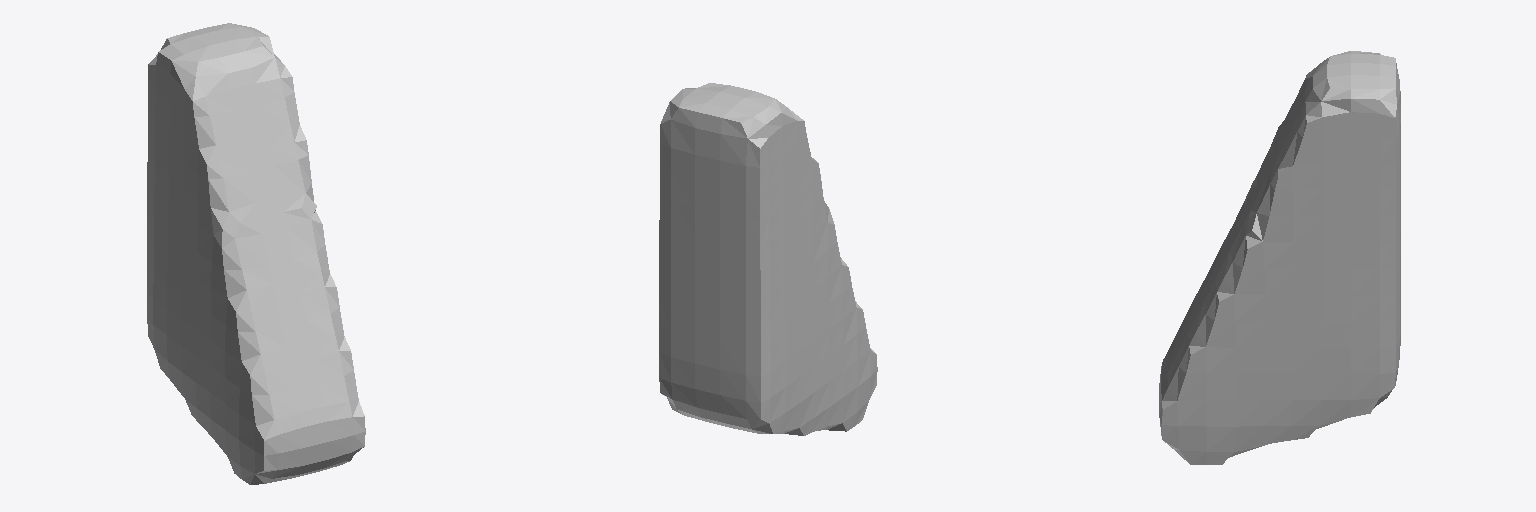
The model's file is right_inner_finger_collisions_mesh_0.obj.
The picture shows the model from 3 angles: view 1: azimuth 30°, elevation 25°; view 2: azimuth 150°, elevation 25°; view 3: azimuth 270°, elevation 25°; orthographic projection.
Visible parts, largest first — view 1: right_inner_finger_collisions_mesh_0; view 2: right_inner_finger_collisions_mesh_0; view 3: right_inner_finger_collisions_mesh_0.
Boxes of the visible parts, x1=… form: right_inner_finger_collisions_mesh_0: x1=147, y1=23, x2=365, y2=484; right_inner_finger_collisions_mesh_0: x1=659, y1=83, x2=877, y2=435; right_inner_finger_collisions_mesh_0: x1=1159, y1=51, x2=1400, y2=464.
Bounding box in the file's own units: 0.015 × 0.0501 × 0.0295.